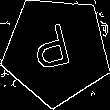P_S: (33, 22, 80, 80)
